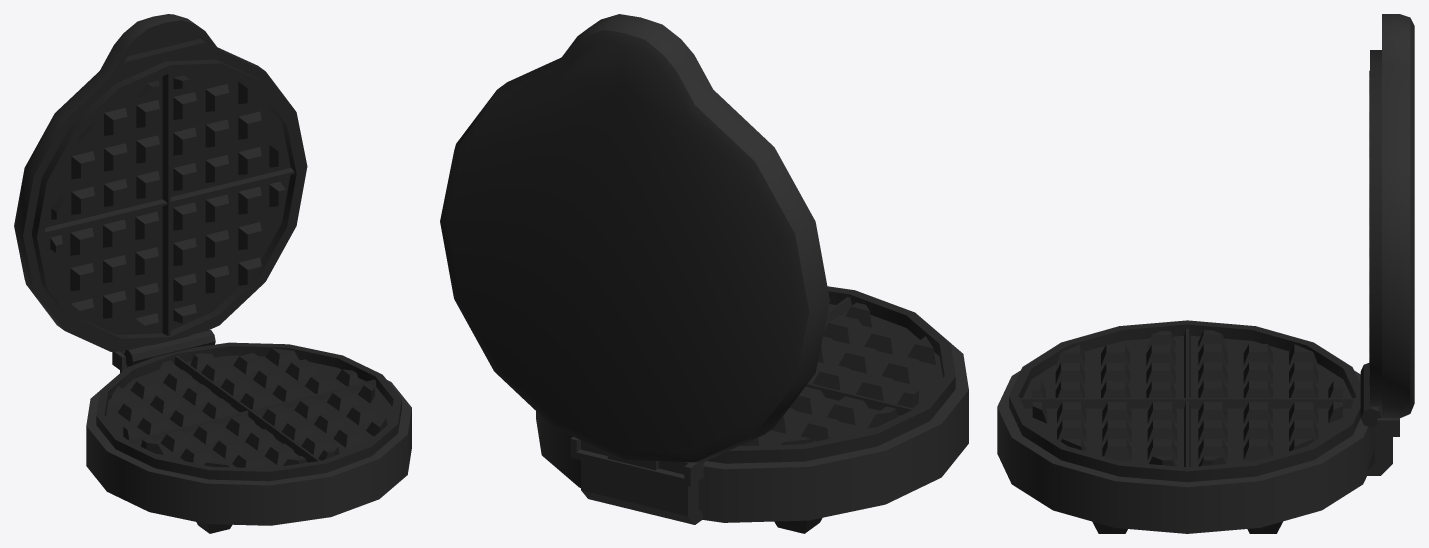
Rendered from WaffleMaker_01.fbx.
The picture shows the model from 3 angles, left to right: view 1: azimuth 30°, elevation 25°; view 2: azimuth 150°, elevation 25°; view 3: azimuth 270°, elevation 25°; orthographic projection. The views are drawn at different scales.
Visible parts, largest first — view 1: WaffleMaker_01_Top, WaffleMaker_01; view 2: WaffleMaker_01_Top, WaffleMaker_01; view 3: WaffleMaker_01, WaffleMaker_01_Top.
Boxes of the visible parts, bbox=[...] form: WaffleMaker_01_Top: bbox=[14, 14, 307, 371]; WaffleMaker_01: bbox=[86, 342, 411, 533]; WaffleMaker_01_Top: bbox=[440, 14, 829, 486]; WaffleMaker_01: bbox=[536, 286, 968, 533]; WaffleMaker_01: bbox=[997, 320, 1392, 533]; WaffleMaker_01_Top: bbox=[1360, 14, 1414, 436].
Size of the model in its own units: 0.2207 by 0.2987 by 0.2422.
